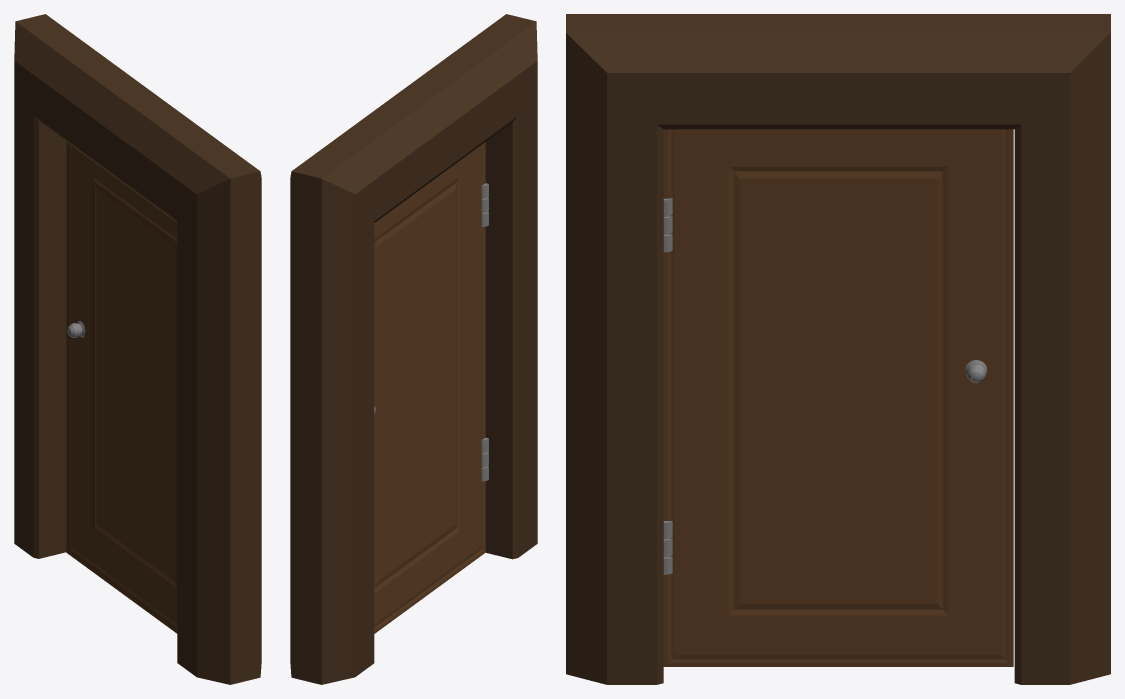
File: doorandframe.fbx
3 renders of one model, left to right at view 1: azimuth 30°, elevation 25°; view 2: azimuth 150°, elevation 25°; view 3: azimuth 270°, elevation 25°, orthographic. The views are drawn at different scales.
Visible parts, largest first — view 1: Frame, Door; view 2: Frame, Door; view 3: Door, Frame.
Boxes of the visible parts, x1,y1,x2,y2 form: Frame: [14, 14, 261, 684]; Door: [66, 142, 177, 633]; Frame: [290, 14, 537, 684]; Door: [374, 142, 485, 633]; Door: [663, 129, 1013, 666]; Frame: [566, 14, 1110, 684].
Size of the model in its own units: 109 by 811 by 624.
